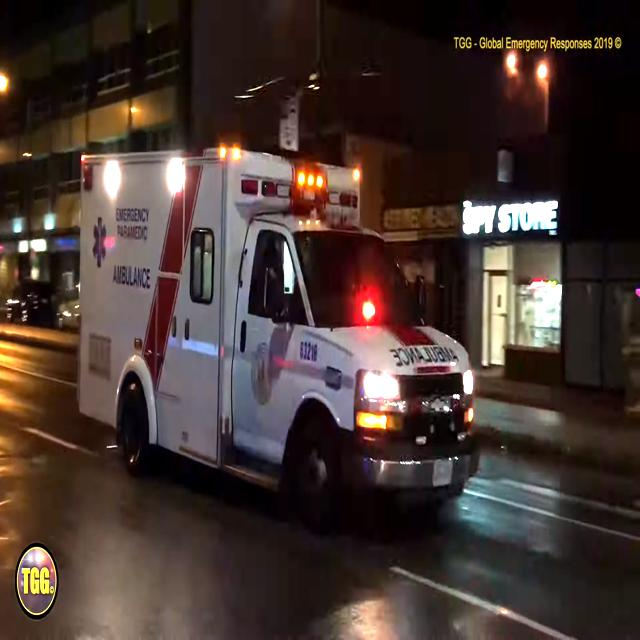emergency-vehicles: (55, 128, 508, 533)
